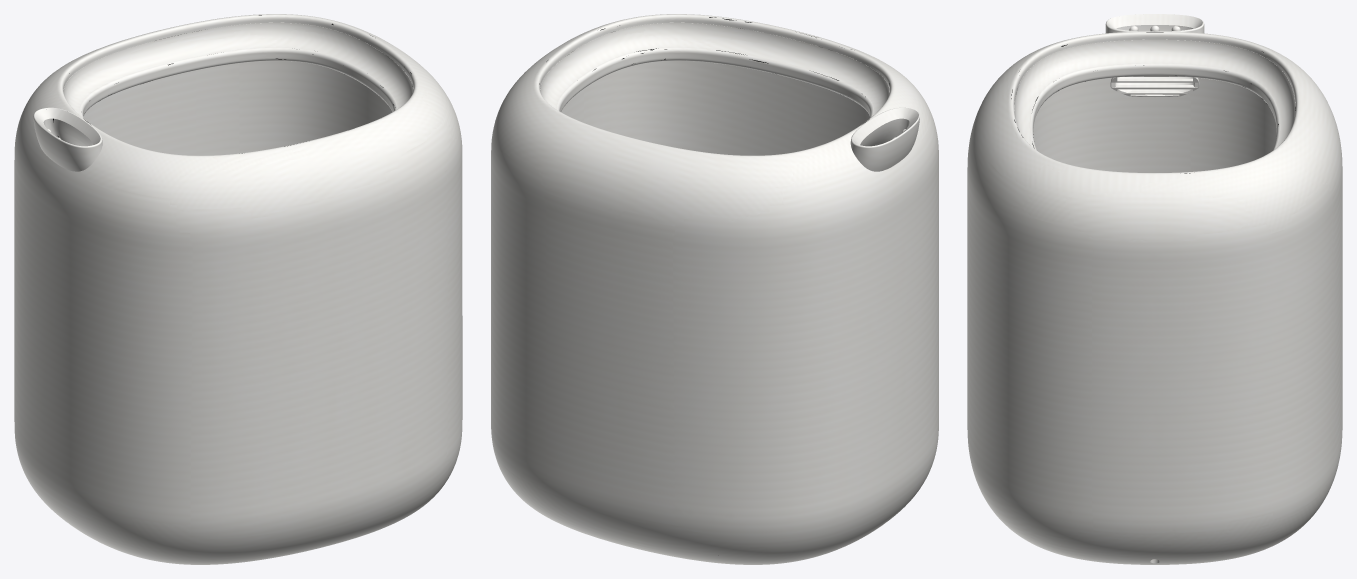
Rendered from teapot_body.glb.
The picture shows the model from 3 angles, left to right: view 1: azimuth 30°, elevation 25°; view 2: azimuth 150°, elevation 25°; view 3: azimuth 270°, elevation 25°; orthographic projection. The views are drawn at different scales.
Bounding box in the file's own units: 0.09 × 0.0935 × 0.08.
Materials: 1 (1 with a texture image).
